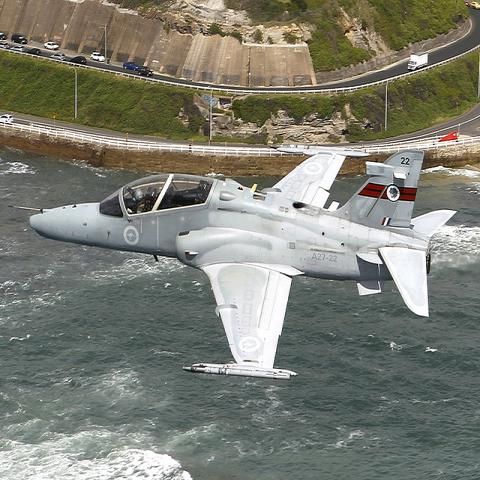car: (11, 33, 28, 45), (138, 66, 154, 76), (50, 51, 66, 61), (69, 56, 87, 64), (90, 52, 104, 62), (1, 112, 15, 122), (123, 62, 139, 70), (27, 47, 41, 56), (44, 42, 59, 50), (10, 45, 25, 52), (0, 30, 4, 38)
truck: (409, 52, 428, 73)
